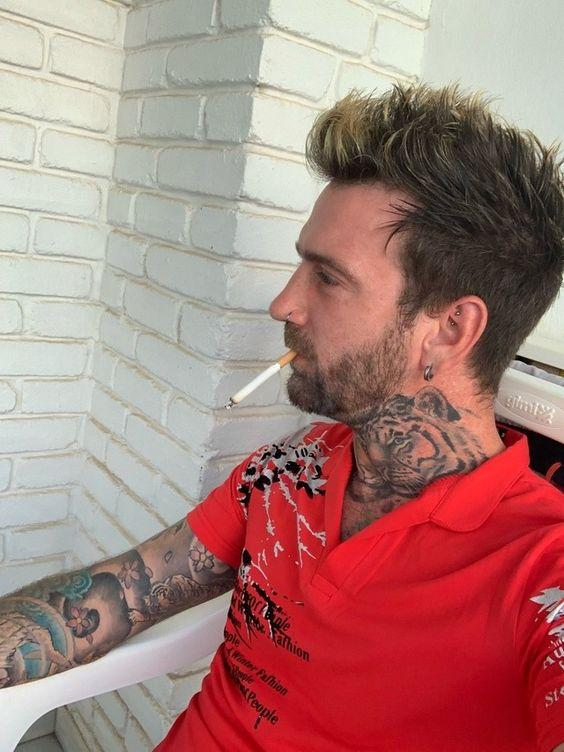cigarette: (225, 348, 299, 409)
